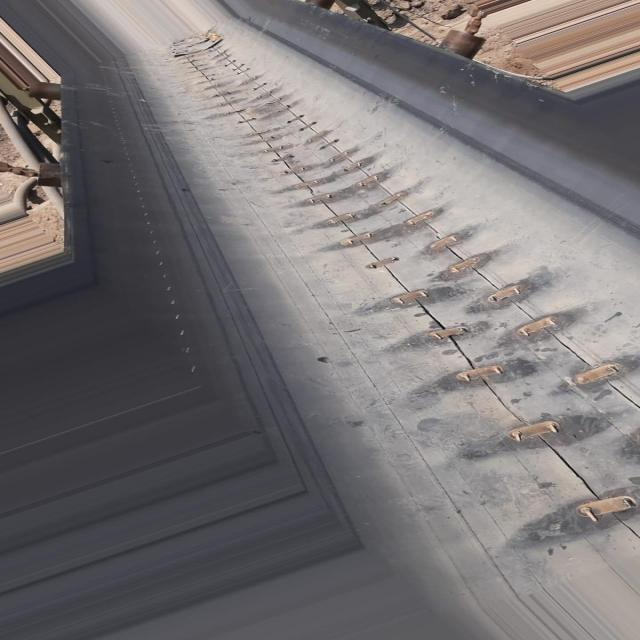Roller: (35, 80, 65, 186), (440, 16, 494, 54)
patch work: (138, 5, 640, 560)
